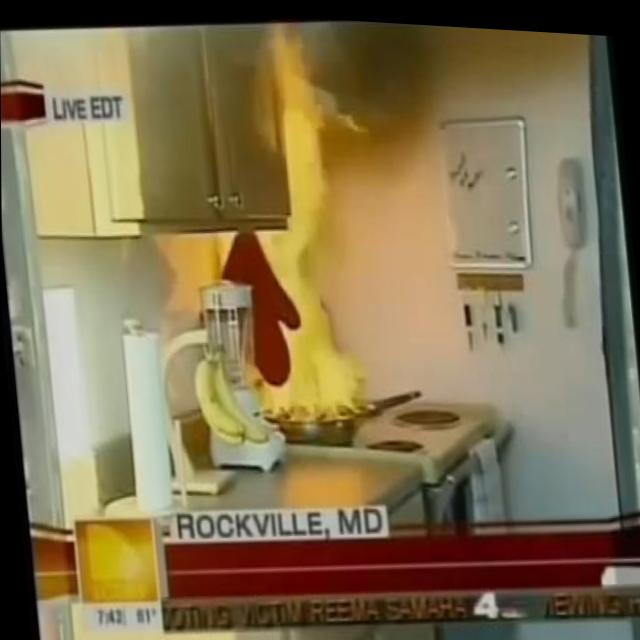fire: (255, 214, 368, 423)
